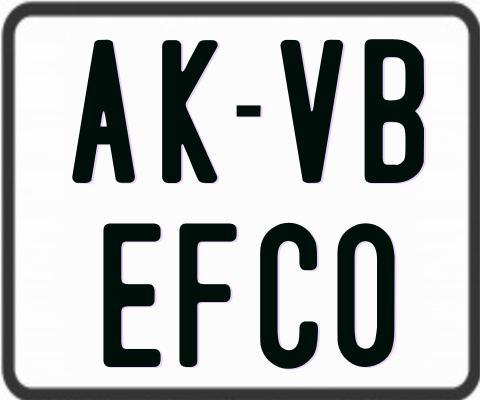0: (336, 222, 394, 368)
A: (72, 37, 140, 184)
B: (362, 36, 421, 182)
C: (258, 223, 316, 373)
E: (103, 224, 163, 371)
F: (178, 221, 238, 368)
K: (162, 39, 224, 185)
V: (278, 39, 341, 185)
